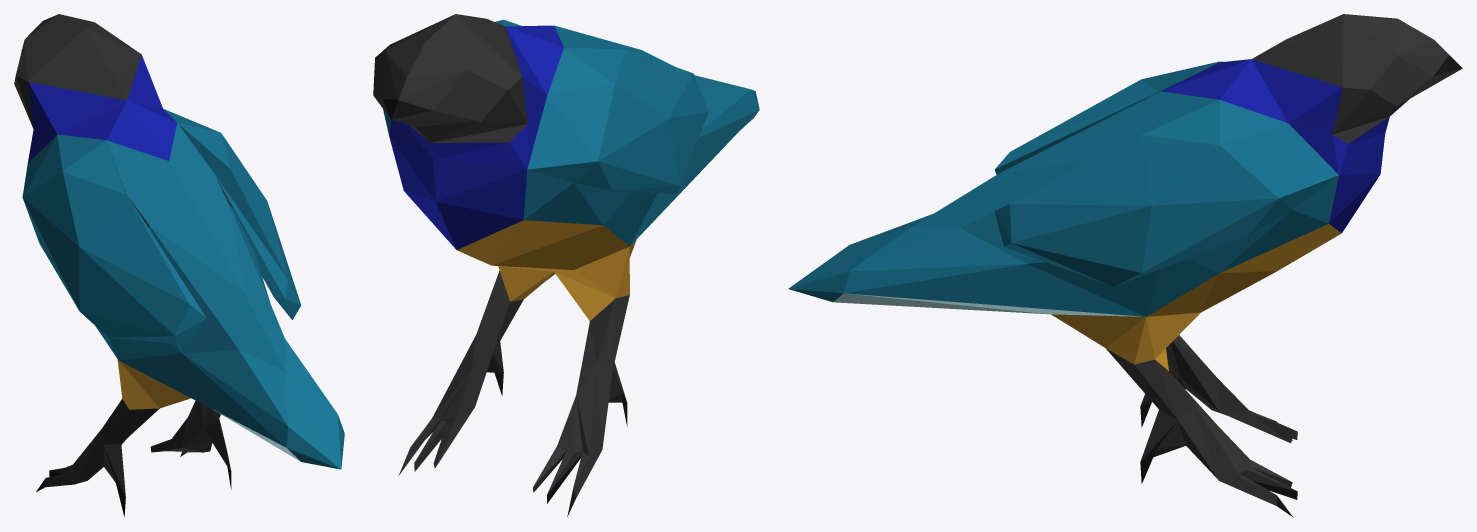
The model's file is bird_prop.fbx.
3 renders of one model, left to right at view 1: azimuth 30°, elevation 25°; view 2: azimuth 150°, elevation 25°; view 3: azimuth 270°, elevation 25°, orthographic. The views are drawn at different scales.
Parts seen in each view (by area): view 1: Sphere; view 2: Sphere; view 3: Sphere.
Part boxes in pixels (x1=…): Sphere: x1=14, y1=14, x2=344, y2=517; Sphere: x1=373, y1=14, x2=759, y2=516; Sphere: x1=788, y1=14, x2=1462, y2=517.
Bounding box in the file's own units: 458 × 956 × 1256.
